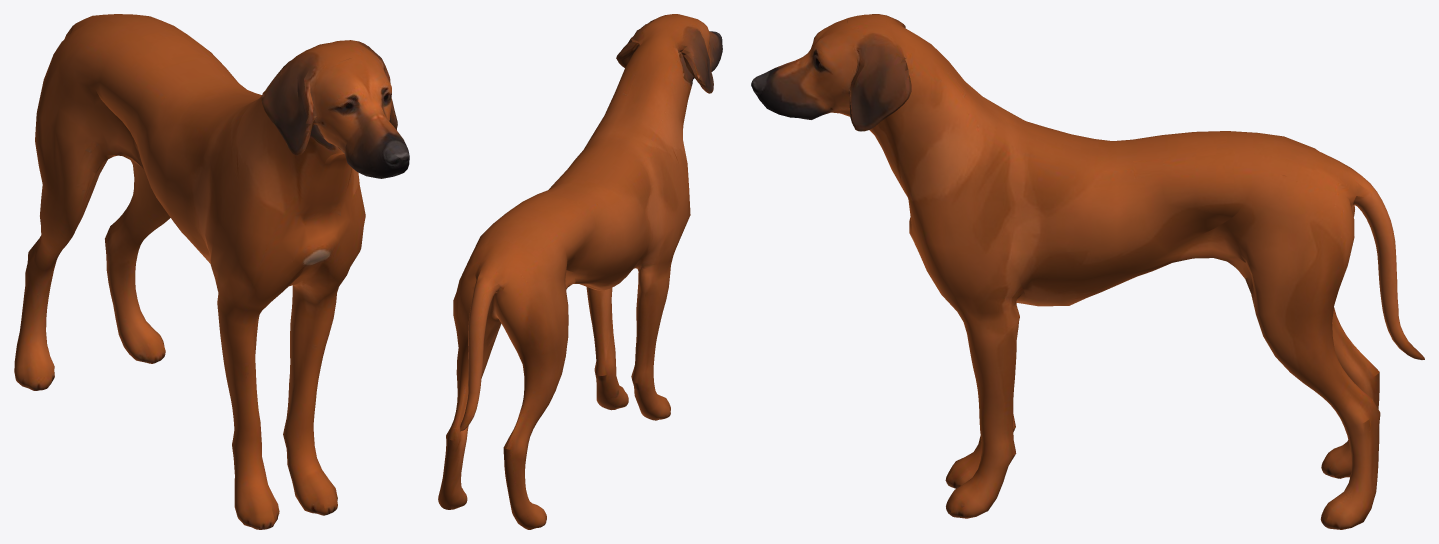
File: retriever.glb
3 views of the same model, side by side, from view 1: azimuth 30°, elevation 25°; view 2: azimuth 150°, elevation 25°; view 3: azimuth 270°, elevation 25° (orthographic). The views are drawn at different scales.
Visible parts, largest first — view 1: Mesh0; view 2: Mesh0; view 3: Mesh0.
Part boxes in pixels (<box>): Mesh0: <box>14,14,409,529</box>; Mesh0: <box>438,14,722,529</box>; Mesh0: <box>751,14,1424,529</box>.
Size of the model in its own units: 0.4447 by 1.49 by 1.89.
1 material, 1 textured.
